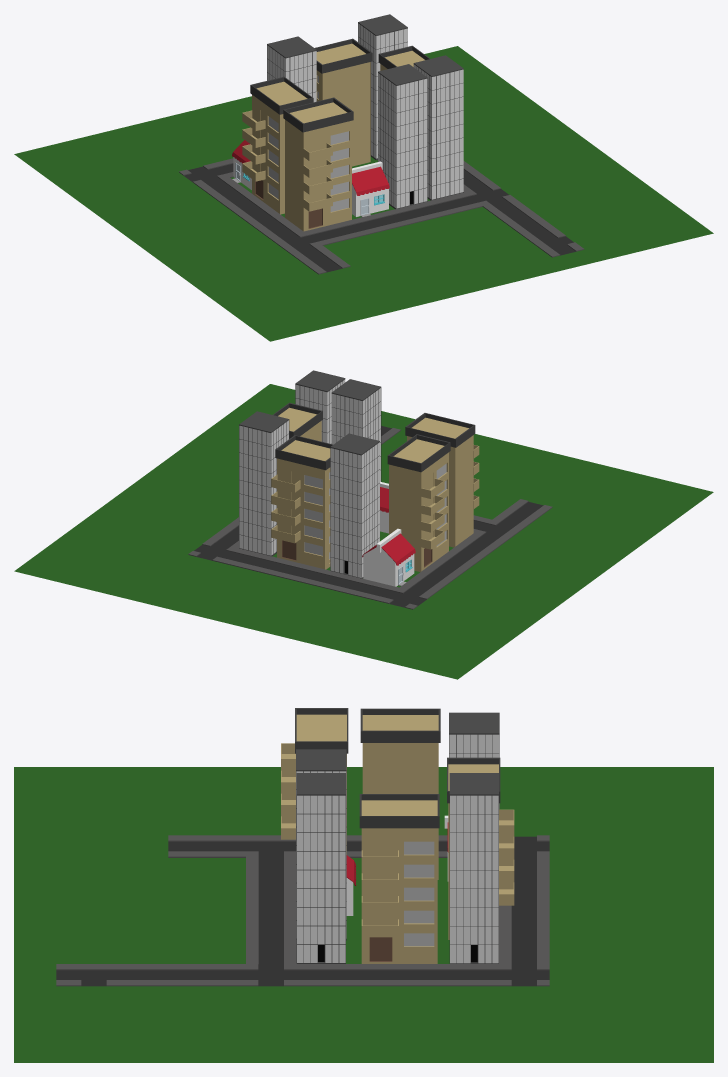
Rendered from City_Env.fbx.
3 views of the same model, one above another, from view 1: azimuth 30°, elevation 25°; view 2: azimuth 150°, elevation 25°; view 3: azimuth 270°, elevation 25° (orthographic). The views are drawn at different scales.
Visible parts, largest first — view 1: City_Merge; view 2: City_Merge; view 3: City_Merge.
Part boxes in pixels (bbox=[...]): City_Merge: bbox=[14, 14, 713, 341]; City_Merge: bbox=[14, 370, 713, 679]; City_Merge: bbox=[14, 708, 713, 1062].
Size of the model in its own units: 5529 by 1489 by 5529.
